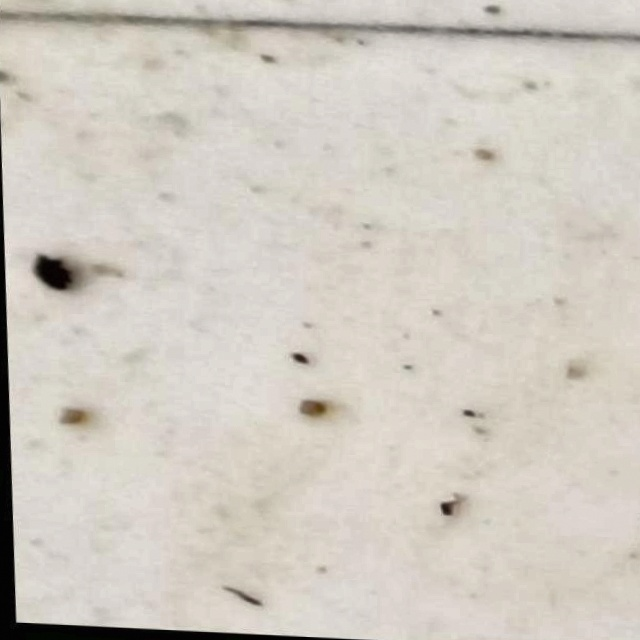varroa: (22, 254, 75, 297)
